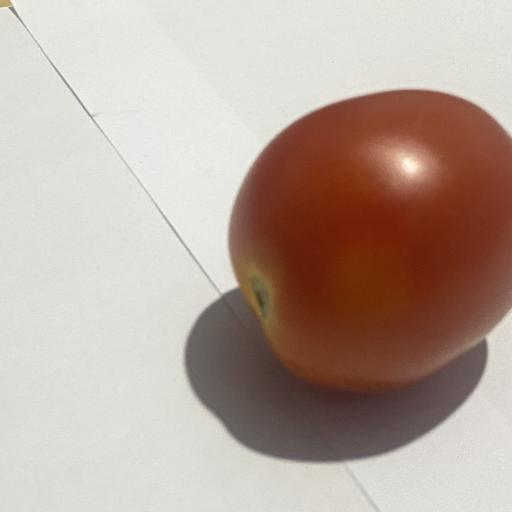ripe: (229, 90, 512, 390)
